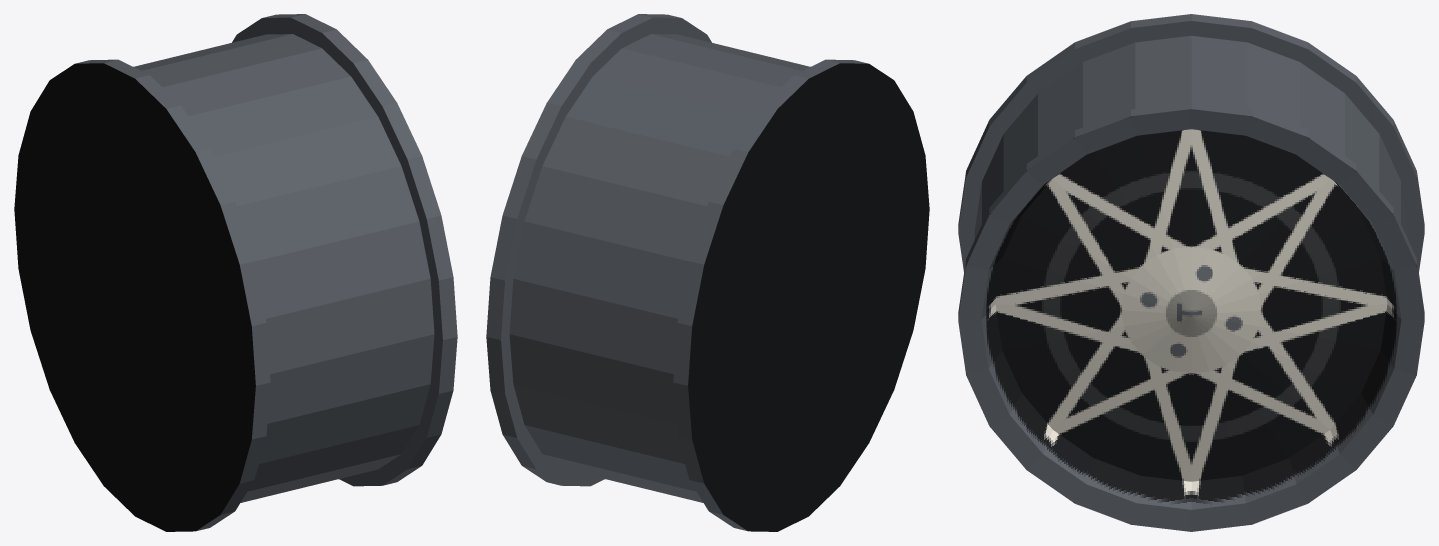
Rendered from tauari_malha_14.glb.
3 views of the same model, side by side, from view 1: azimuth 30°, elevation 25°; view 2: azimuth 150°, elevation 25°; view 3: azimuth 270°, elevation 25° (orthographic). The views are drawn at different scales.
Parts seen in each view (by area): view 1: tauari_malha_14; view 2: tauari_malha_14; view 3: tauari_malha_14.
Boxes of the visible parts, x1,y1,x2,y2 form: tauari_malha_14: [14, 14, 457, 531]; tauari_malha_14: [486, 14, 929, 531]; tauari_malha_14: [958, 14, 1424, 531].
Bounding box in the file's own units: 0.192 × 0.3983 × 0.3983.
Materials: 1 (1 with a texture image).
